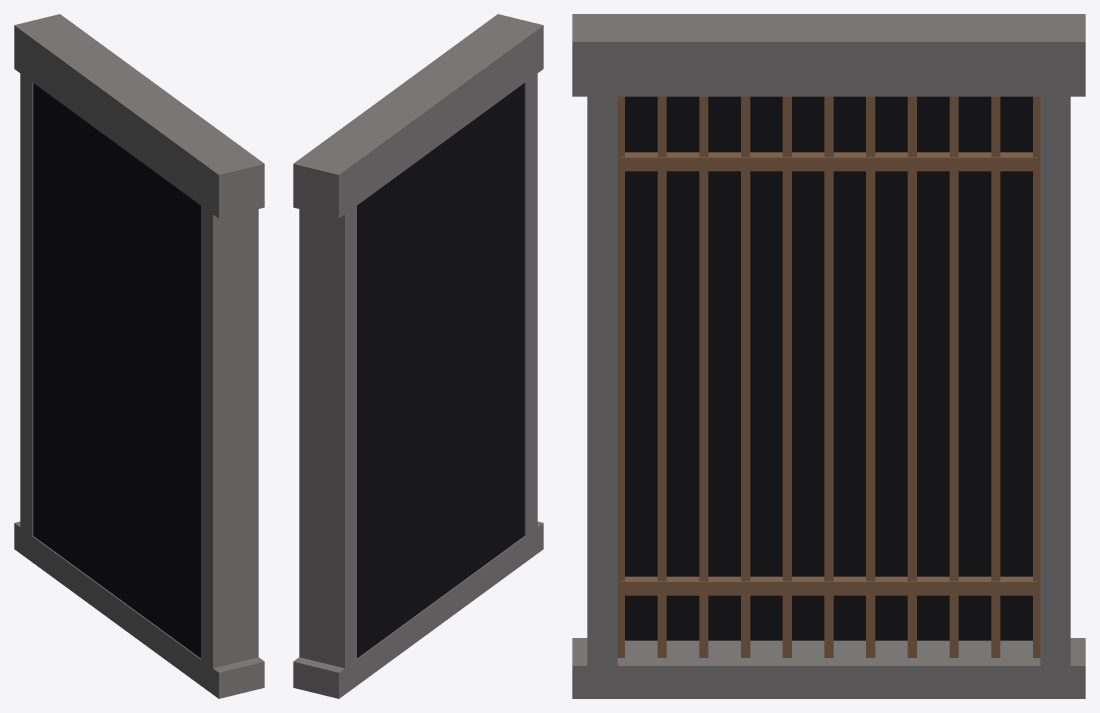
File: grade_cela.glb
The picture shows the model from 3 angles, left to right: view 1: azimuth 30°, elevation 25°; view 2: azimuth 150°, elevation 25°; view 3: azimuth 270°, elevation 25°; orthographic projection. The views are drawn at different scales.
Visible parts, largest first — view 1: Malha_0; view 2: Malha_0; view 3: Malha_0.
Boxes of the visible parts, x1=… form: Malha_0: x1=14, y1=14, x2=264, y2=698; Malha_0: x1=293, y1=14, x2=543, y2=698; Malha_0: x1=572, y1=14, x2=1085, y2=698.
Bounding box in the file's own units: 0.22 × 2.4 × 1.7.
